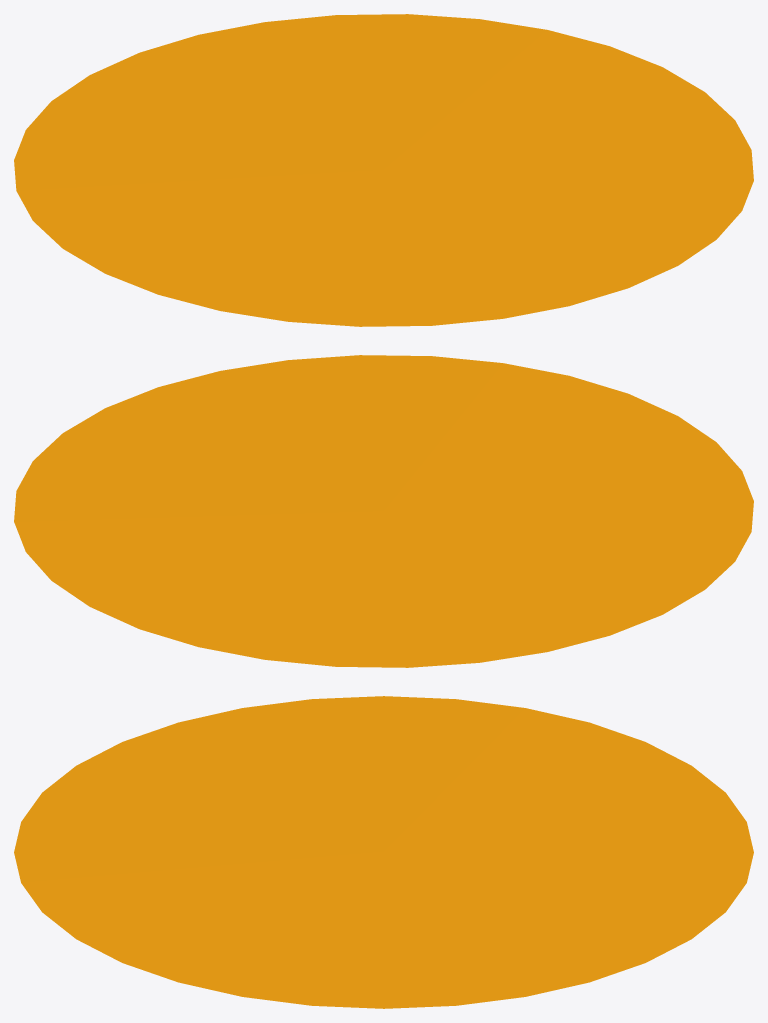
The model's file is Bar11.gltf.
3 views of the same model, one above another, from view 1: azimuth 30°, elevation 25°; view 2: azimuth 150°, elevation 25°; view 3: azimuth 270°, elevation 25° (orthographic).
Visible parts, largest first — view 1: Cone.004; view 2: Cone.004; view 3: Cone.004.
Part boxes in pixels (x1,y1,x2,y2): Cone.004: (14,14,753,326); Cone.004: (14,355,753,667); Cone.004: (14,696,753,1008).
Bounding box in the file's own units: 0.0217 × 2.17e-05 × 0.0217.
